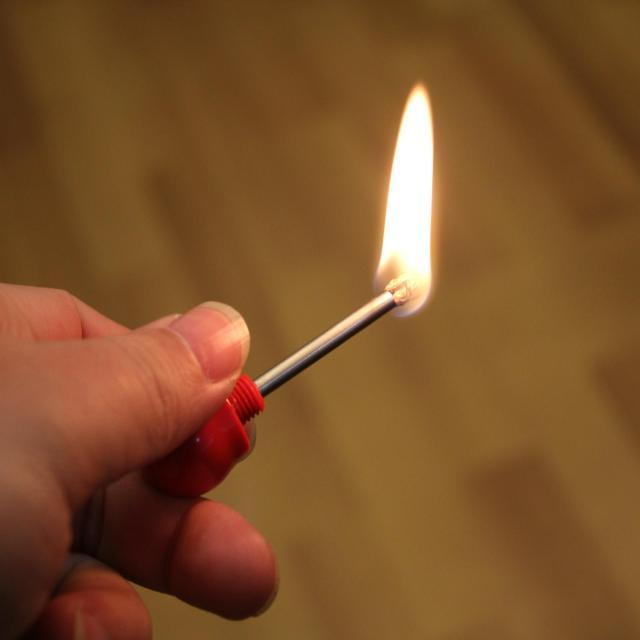Fire: (370, 80, 436, 317)
